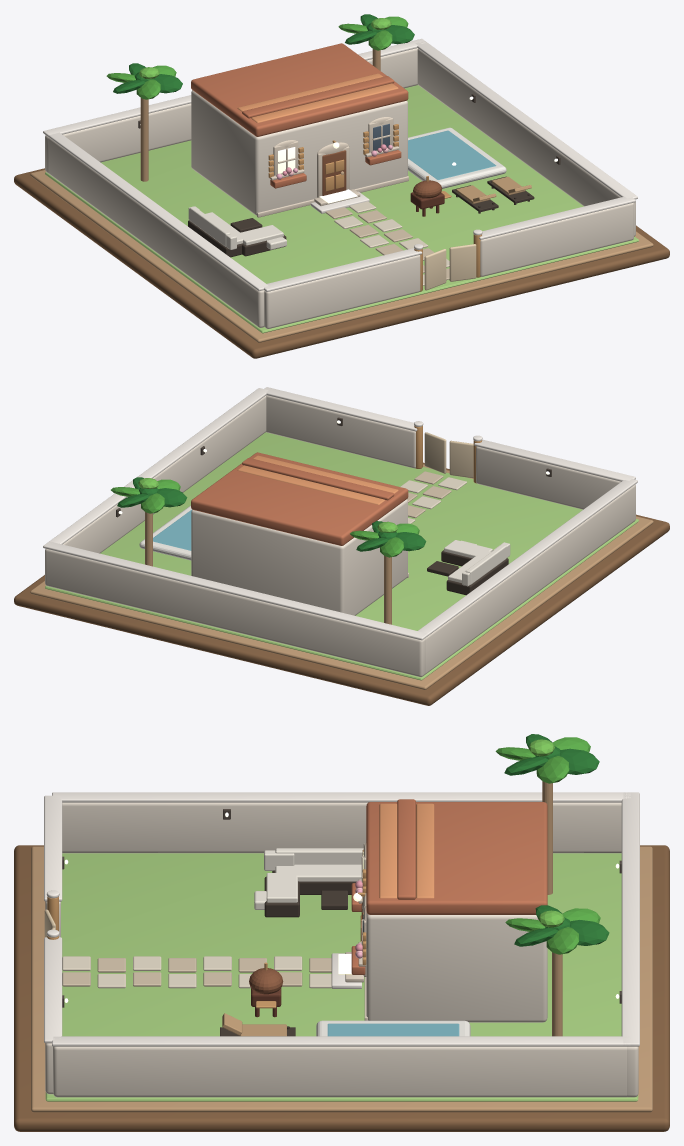
File: yard.glb
3 renders of one model, top to bottom at view 1: azimuth 30°, elevation 25°; view 2: azimuth 150°, elevation 25°; view 3: azimuth 270°, elevation 25°, orthographic. The views are drawn at different scales.
Parts seen in each view (by area): view 1: GroundLawn, HouseBody, GroundPlinth, HouseRoof, WallWest, WallEast, GroundSoil, WallSouthL, WallSouthR, WallNorth, CapEast, CapWest (+15 smaller); view 2: GroundLawn, WallNorth, HouseBody, GroundPlinth, HouseRoof, WallWest, GroundSoil, WallSouthR, WallEast, WallSouthL, CapNorth, CapWest (+14 smaller); view 3: GroundLawn, WallEast, GroundPlinth, WallWest, HouseBody, HouseRoof, GroundSoil, CapEast, CapWest, CapNorth, CapSouthR, TileRow1 (+19 smaller).
Part boxes in pixels (x1,y1,x2,y2): GroundLawn: (45, 85, 638, 333); HouseBody: (191, 90, 407, 215); GroundPlinth: (14, 168, 669, 358); HouseRoof: (191, 43, 408, 136); WallWest: (48, 138, 264, 327); WallEast: (417, 48, 635, 236); GroundSoil: (30, 170, 653, 342); WallSouthL: (264, 255, 420, 328); WallSouthR: (480, 202, 633, 276); WallNorth: (45, 48, 417, 173); CapEast: (415, 41, 637, 199); CapWest: (46, 132, 268, 291); GroundLawn: (45, 432, 638, 680); WallNorth: (45, 549, 425, 677); HouseBody: (191, 499, 407, 615); GroundPlinth: (14, 462, 669, 705); HouseRoof: (191, 452, 408, 545); WallWest: (425, 484, 635, 673); GroundSoil: (30, 464, 653, 689); WallSouthR: (266, 395, 415, 468); WallEast: (63, 396, 266, 553); WallSouthL: (476, 446, 620, 509); CapNorth: (43, 541, 427, 640); CapWest: (418, 479, 637, 637); GroundLawn: (45, 853, 638, 1101); WallEast: (53, 1046, 626, 1097); GroundPlinth: (14, 845, 669, 1131); WallWest: (62, 802, 621, 853); HouseBody: (366, 911, 547, 1022); HouseRoof: (366, 802, 547, 914); GroundSoil: (31, 846, 652, 1112); CapEast: (52, 1036, 630, 1046); CapWest: (52, 792, 630, 802); CapNorth: (621, 792, 639, 1046); CapSouthR: (44, 937, 62, 1043); TileRow1: (397, 799, 415, 899).
Bounding box in the file's own units: 13.4 × 3.94 × 13.4.
